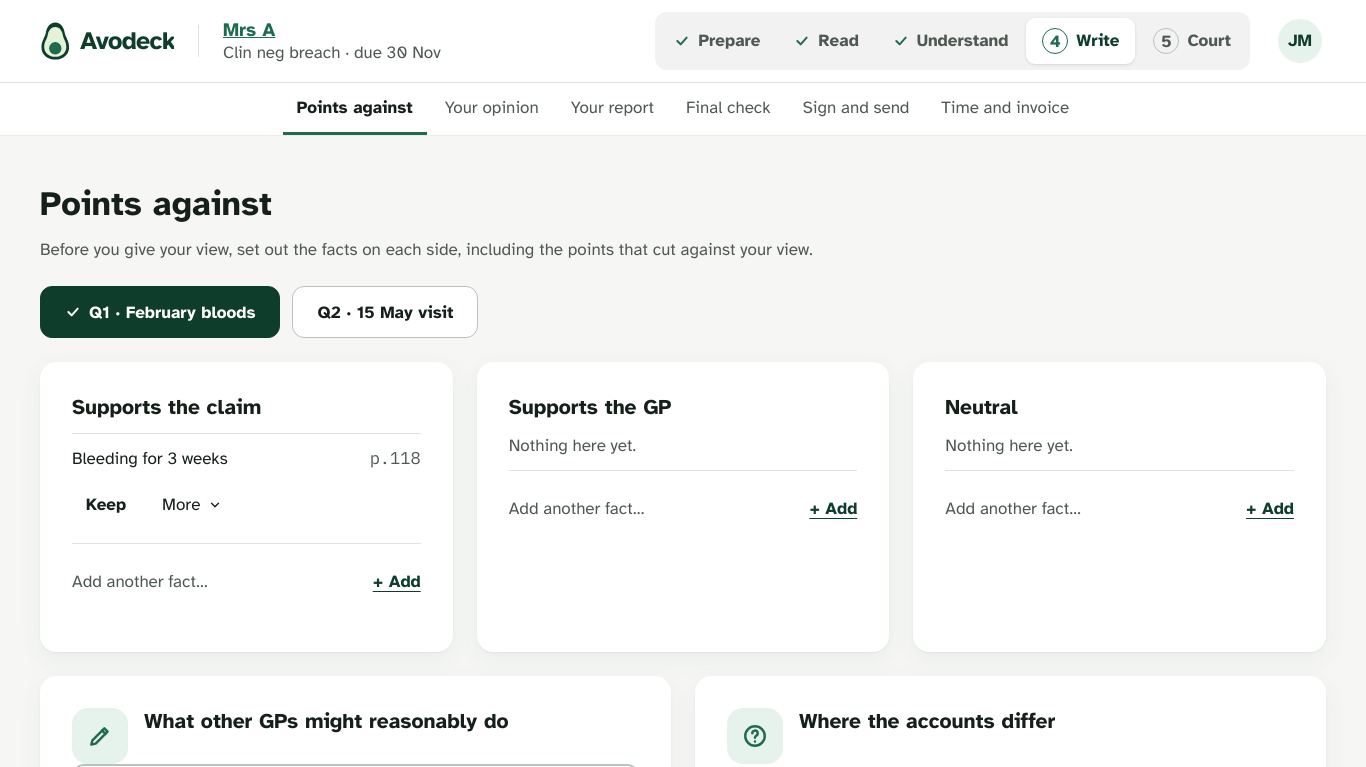
it: screen 14 keeps moving and removing a point in a menu
Expected: the button "Remove" is not shown
Click the button "More".
click(192, 505)  # box [148, 479, 236, 531]
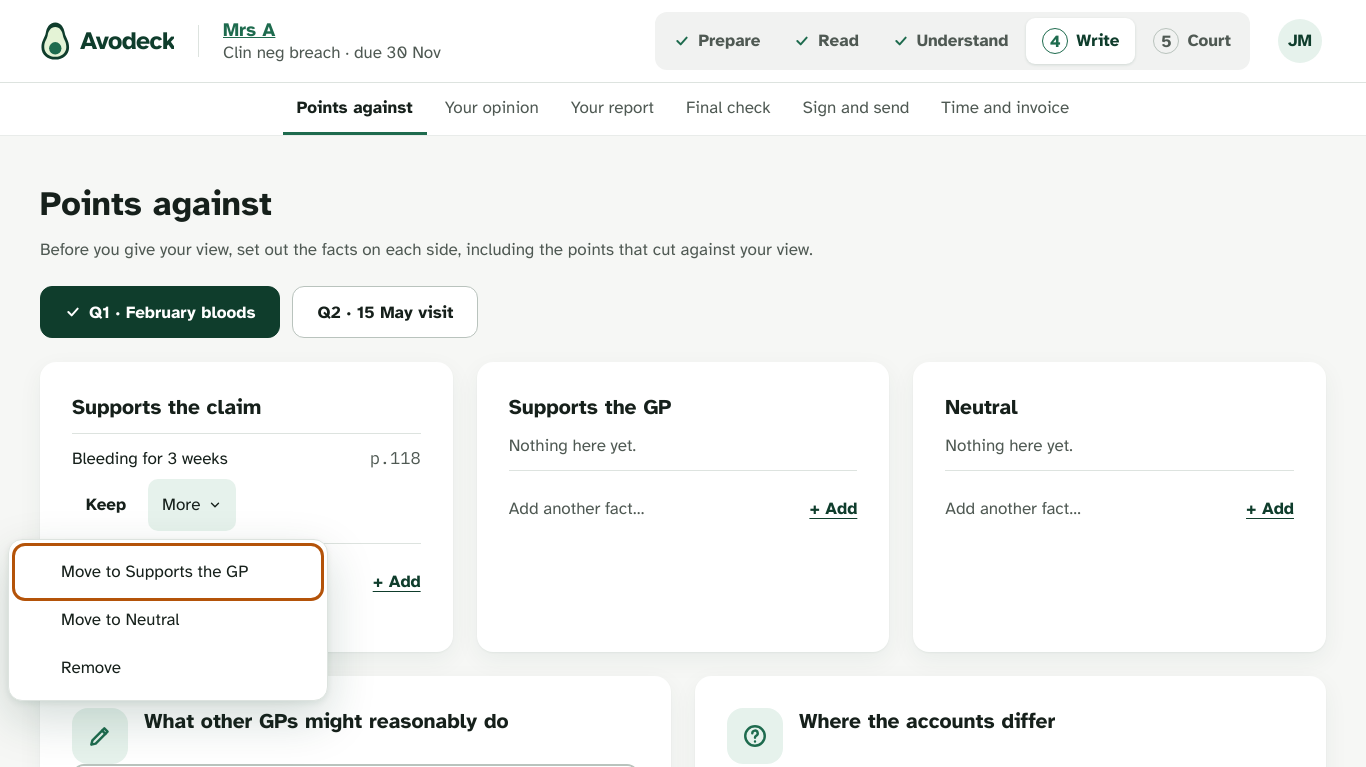
Result: the button "Remove" is shown at [17, 644, 319, 692]
